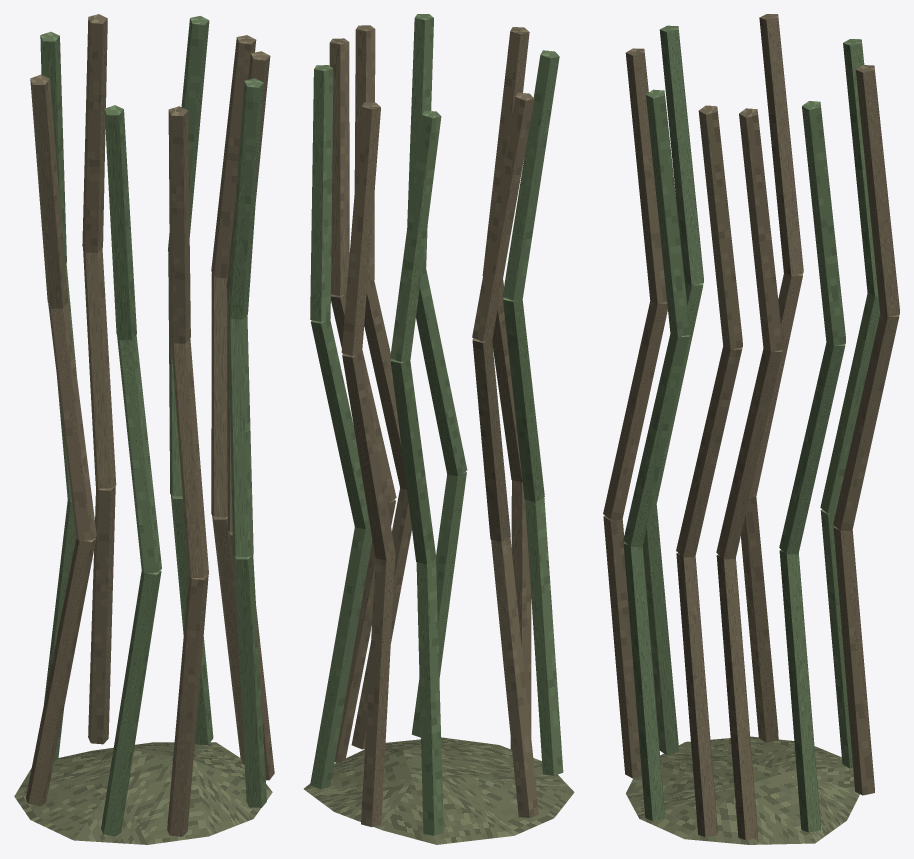
Rendered from f_nl_climbing_vine.glb.
3 views of the same model, side by side, from view 1: azimuth 30°, elevation 25°; view 2: azimuth 150°, elevation 25°; view 3: azimuth 270°, elevation 25° (orthographic).
Parts seen in each view (by area): view 1: block_fraying-wire-like-vine-1 (×9), block_fraying-wire-like-vine-3 (×9), block_fraying-wire-like-vine-2 (×9), block_rooted-labyrinth-plant-base; view 2: block_fraying-wire-like-vine-1 (×9), block_fraying-wire-like-vine-3 (×9), block_fraying-wire-like-vine-2 (×9), block_rooted-labyrinth-plant-base; view 3: block_fraying-wire-like-vine-1 (×9), block_fraying-wire-like-vine-3 (×9), block_fraying-wire-like-vine-2 (×9), block_rooted-labyrinth-plant-base.
Boxes of the visible parts, bbox=[...] form: block_fraying-wire-like-vine-1 (×9): bbox=[26, 486, 274, 836]; block_fraying-wire-like-vine-3 (×9): bbox=[30, 14, 270, 343]; block_fraying-wire-like-vine-2 (×9): bbox=[48, 248, 253, 578]; block_rooted-labyrinth-plant-base: bbox=[14, 742, 272, 844]; block_fraying-wire-like-vine-1 (×9): bbox=[310, 471, 563, 835]; block_fraying-wire-like-vine-3 (×9): bbox=[310, 14, 559, 361]; block_fraying-wire-like-vine-2 (×9): bbox=[311, 267, 544, 564]; block_rooted-labyrinth-plant-base: bbox=[304, 737, 574, 844]; block_fraying-wire-like-vine-1 (×9): bbox=[603, 497, 874, 839]; block_fraying-wire-like-vine-3 (×9): bbox=[625, 14, 899, 352]; block_fraying-wire-like-vine-2 (×9): bbox=[603, 273, 899, 559]; block_rooted-labyrinth-plant-base: bbox=[626, 736, 859, 844].
Bounding box in the file's own units: 0.6553 × 1.99 × 0.7342.
1 material, 1 textured.
